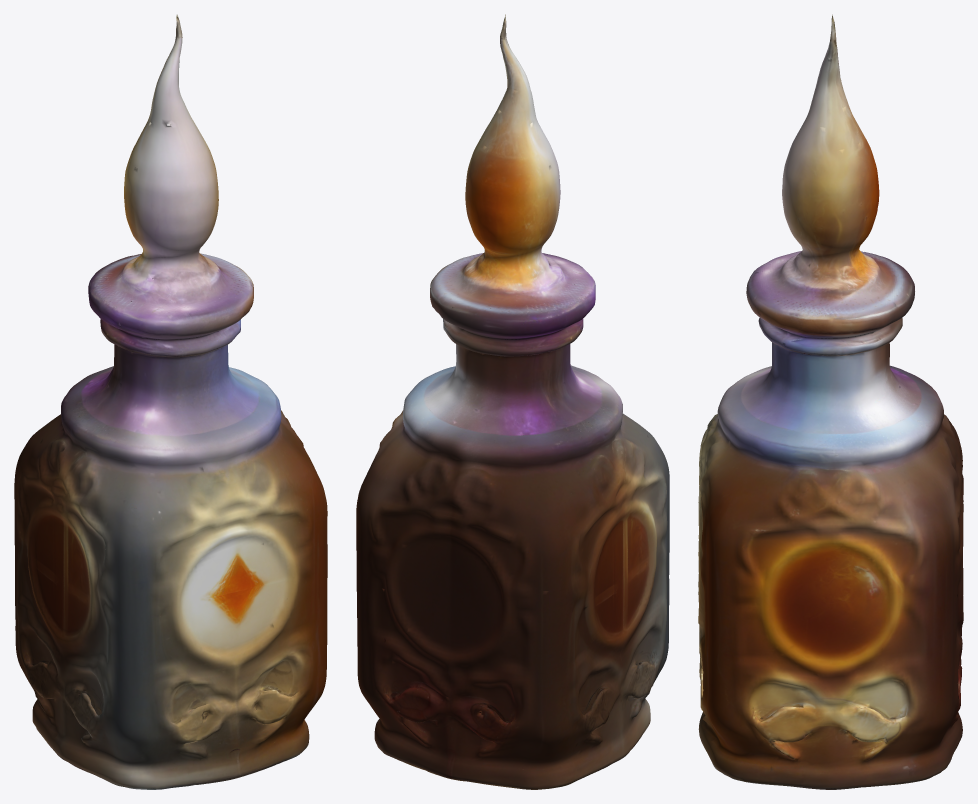
The model's file is Heal_small_continue_d_0502101543_refine.fbx.
The picture shows the model from 3 angles, left to right: view 1: azimuth 30°, elevation 25°; view 2: azimuth 150°, elevation 25°; view 3: azimuth 270°, elevation 25°; orthographic projection.
Visible parts, largest first — view 1: Mesh_0; view 2: Mesh_0; view 3: Mesh_0.
Part boxes in pixels (bbox=[...]): Mesh_0: bbox=[14, 14, 327, 789]; Mesh_0: bbox=[356, 14, 669, 789]; Mesh_0: bbox=[698, 14, 963, 789].
Size of the model in its own units: 65.23 by 201 by 66.44.
1 material, 1 textured.
